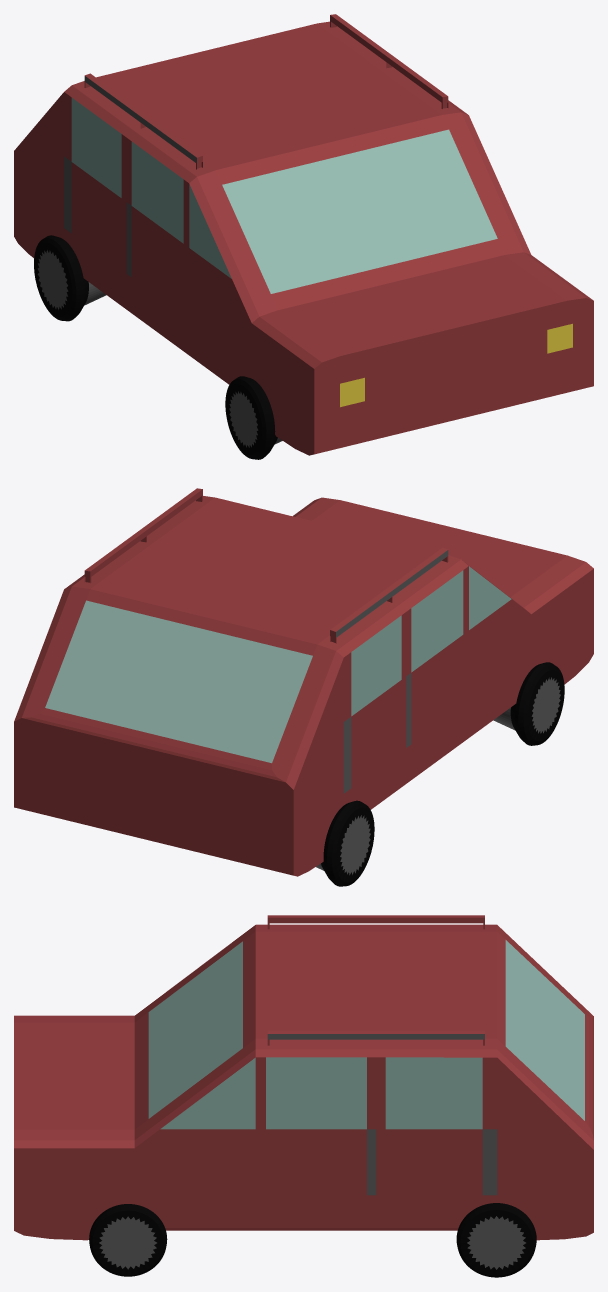
Rendered from car.fbx.
3 views of the same model, one above another, from view 1: azimuth 30°, elevation 25°; view 2: azimuth 150°, elevation 25°; view 3: azimuth 270°, elevation 25° (orthographic). The views are drawn at different scales.
Visible parts, largest first — view 1: Cylinder.001; view 2: Cylinder.001; view 3: Cylinder.001.
Part boxes in pixels (x1=…): Cylinder.001: x1=14, y1=14, x2=593, y2=459; Cylinder.001: x1=14, y1=488, x2=593, y2=886; Cylinder.001: x1=14, y1=915, x2=593, y2=1277.
Bounding box in the file's own units: 375 × 286 × 639.
